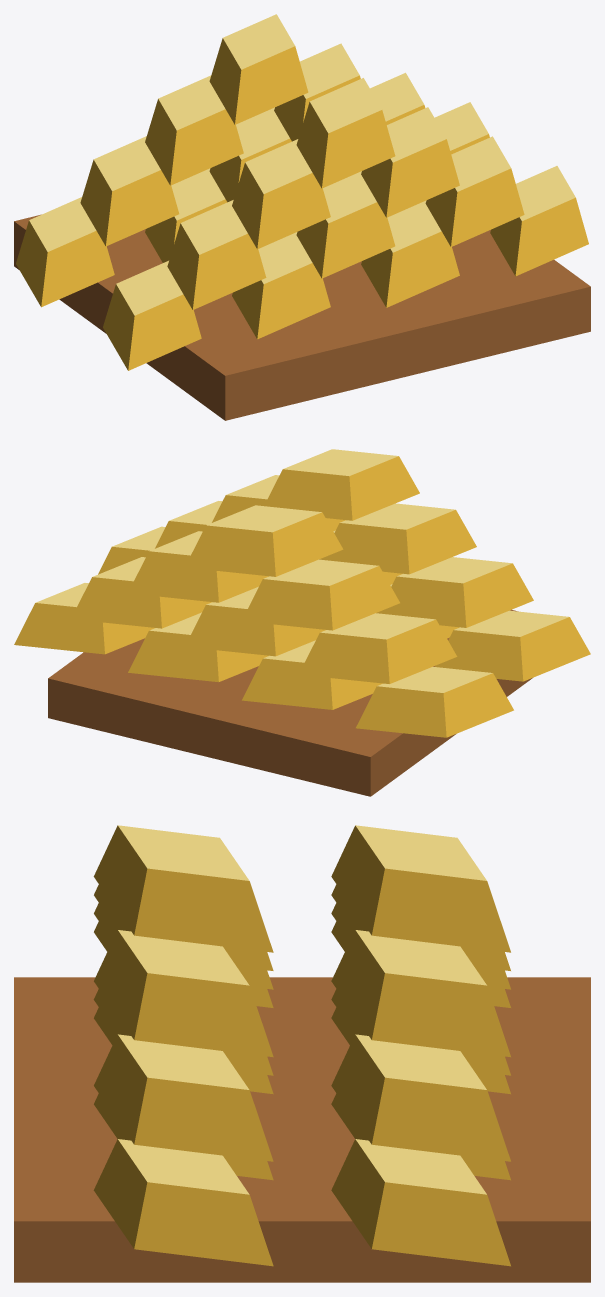
The model's file is GoldPallet.fbx.
3 renders of one model, top to bottom at view 1: azimuth 30°, elevation 25°; view 2: azimuth 150°, elevation 25°; view 3: azimuth 270°, elevation 25°, orthographic. The views are drawn at different scales.
Parts seen in each view (by area): view 1: GoldPallet; view 2: GoldPallet; view 3: GoldPallet.
Boxes of the visible parts, x1=… form: GoldPallet: x1=14, y1=14, x2=590, y2=420; GoldPallet: x1=14, y1=449, x2=590, y2=796; GoldPallet: x1=14, y1=825, x2=590, y2=1282.
Size of the model in its own units: 4.66 by 2 by 3.4.
Materials: 1 (1 with a texture image).
